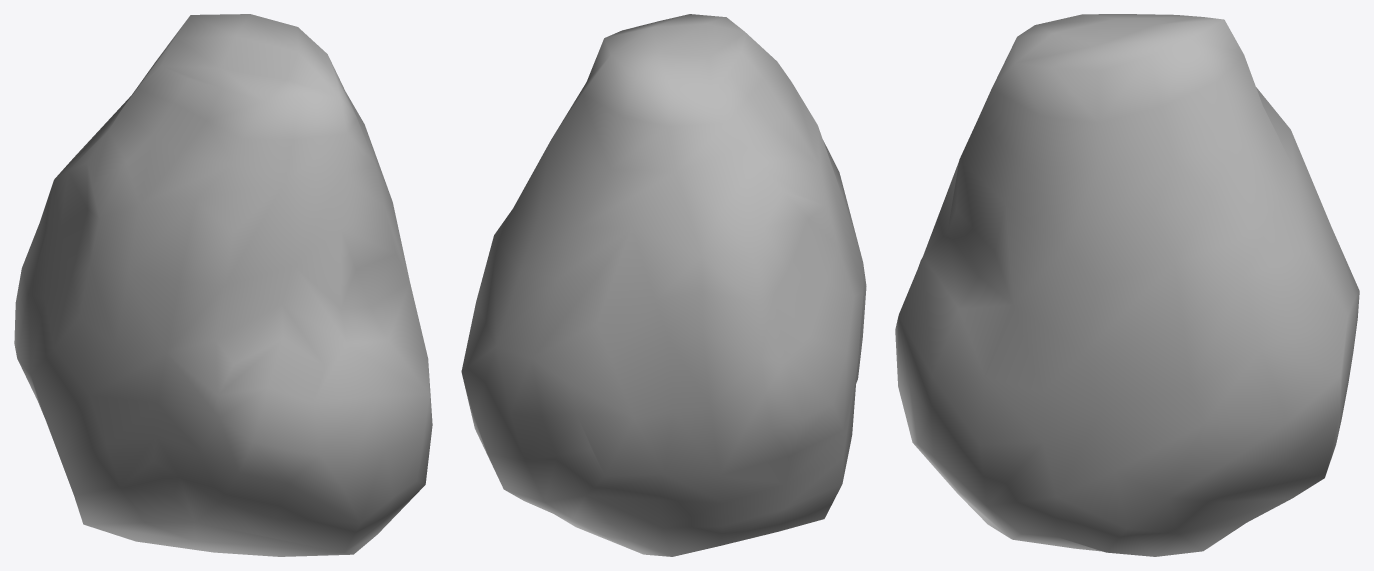
The picture shows the model from 3 angles, left to right: view 1: azimuth 30°, elevation 25°; view 2: azimuth 150°, elevation 25°; view 3: azimuth 270°, elevation 25°; orthographic projection. The views are drawn at different scales.
Parts seen in each view (by area): view 1: StoneLp; view 2: StoneLp; view 3: StoneLp.
Boxes of the visible parts, x1,y1,x2,y2 form: StoneLp: (14, 14, 432, 556); StoneLp: (461, 14, 866, 556); StoneLp: (895, 14, 1359, 556).
Bounding box in the file's own units: 1.74 × 2.4 × 1.96.
Materials: 1 (1 with a texture image).
